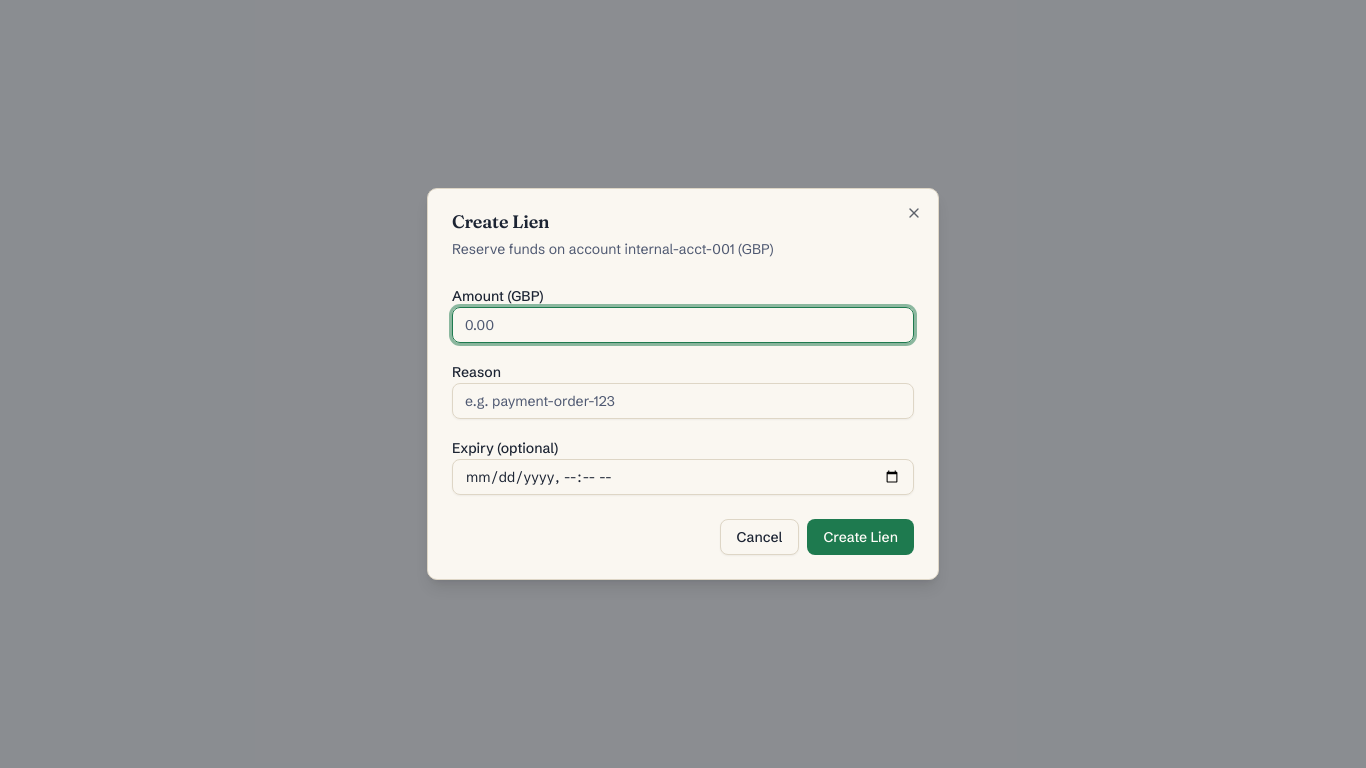
CreateLienDialog - internal account API › shows lien ID on success for internal accounts
In the field labelled "Amount (GBP)": (683, 325) [452, 307, 914, 343], type "100.00"
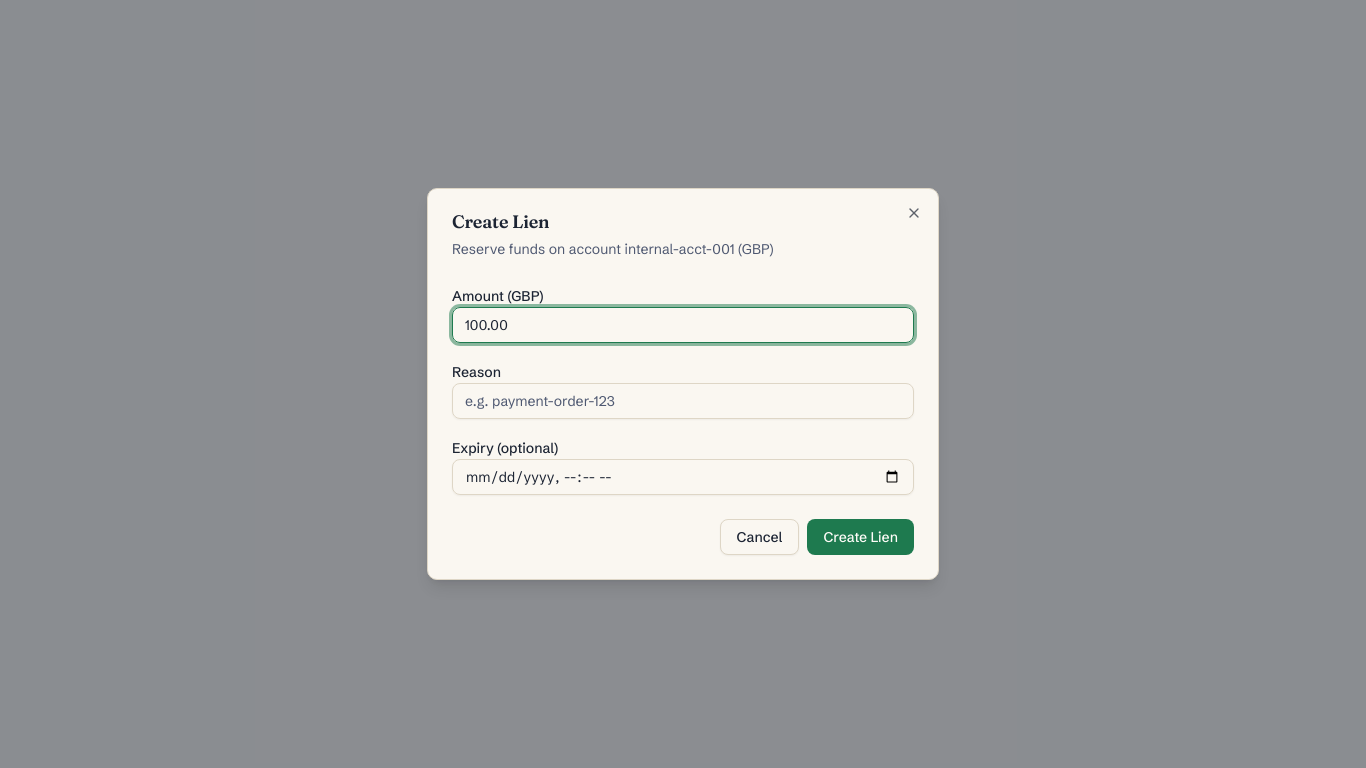
In the field labelled "Reason": (683, 401) [452, 383, 914, 419], type "internal-ref-001"
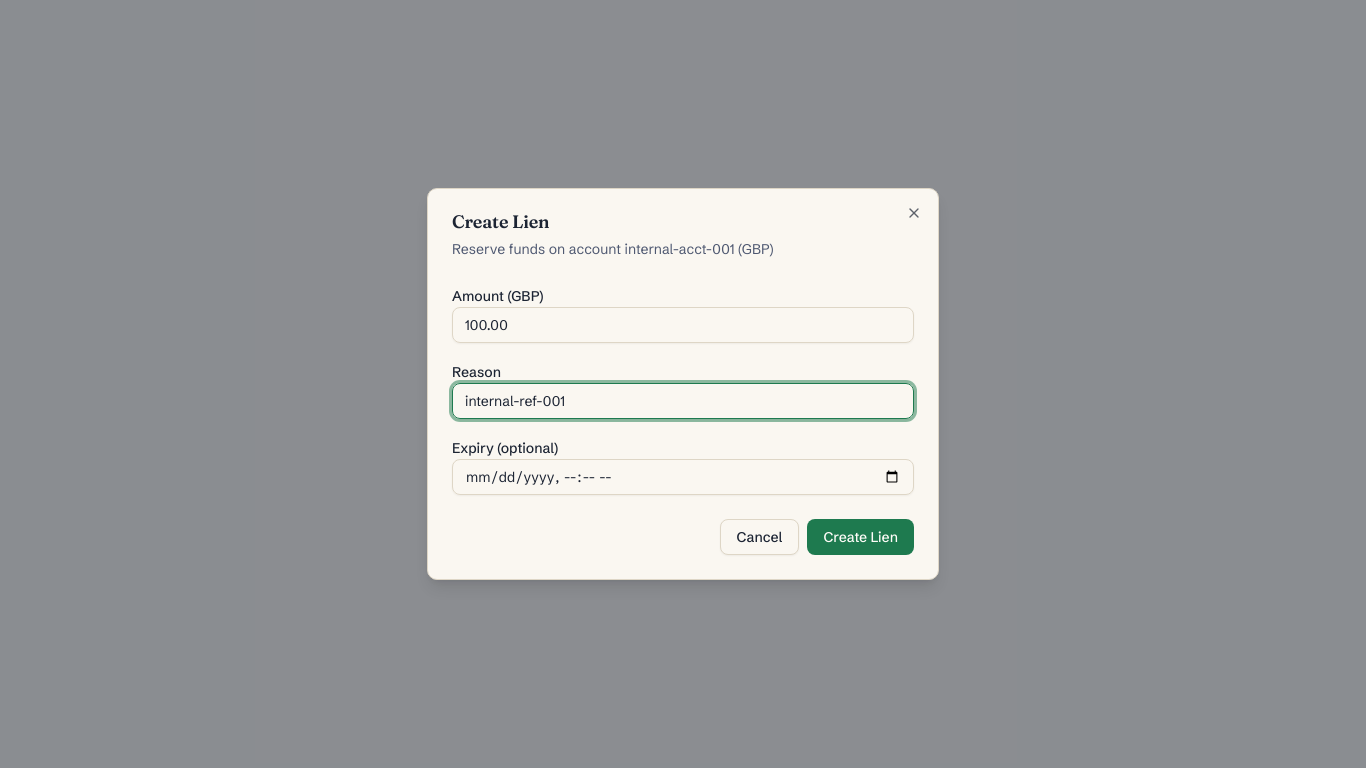
Click the button "Create Lien": (861, 537) [807, 519, 914, 555]
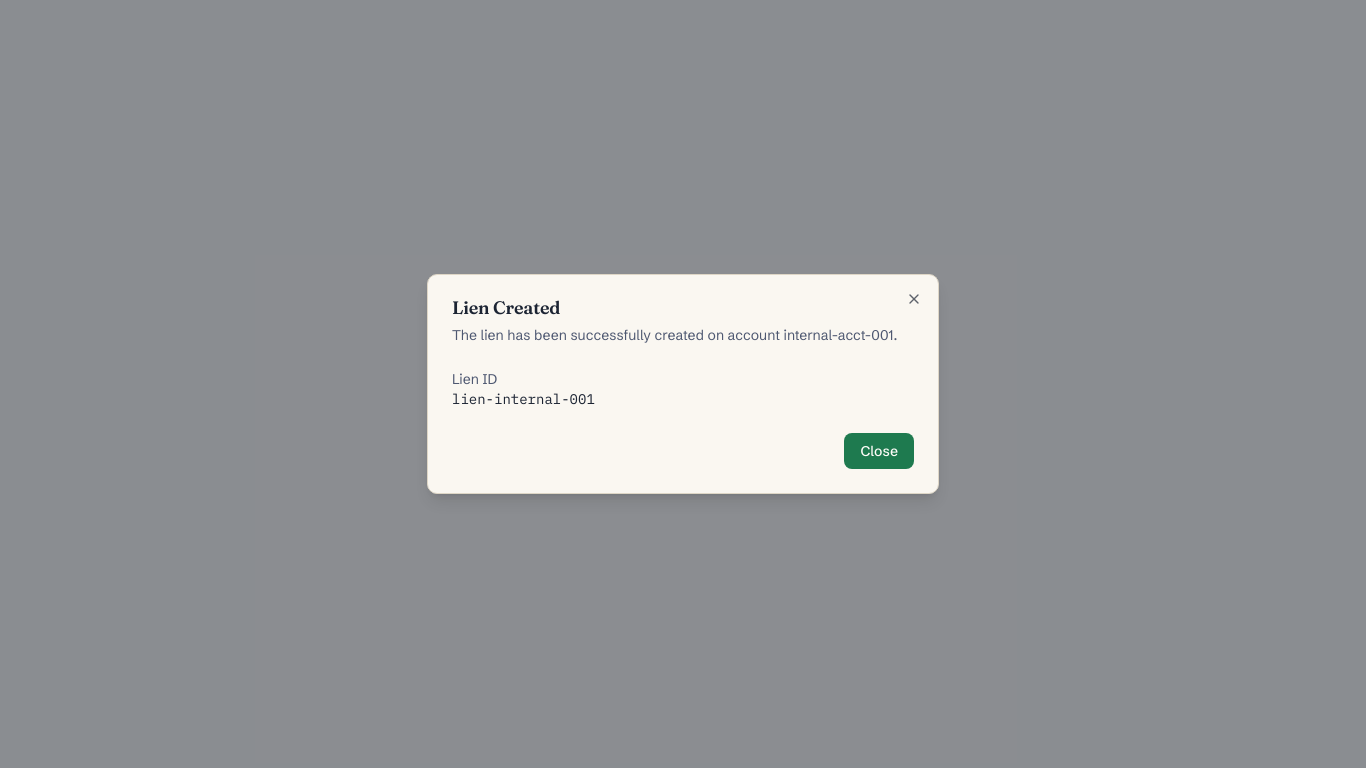
Now the text with test id "lien-id" reads "lien-internal-001", box [452, 390, 595, 408]
